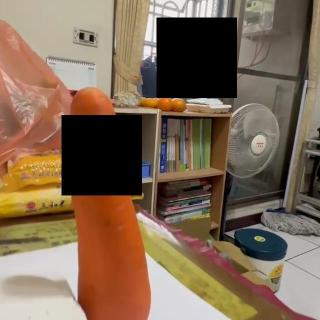carrot: (65, 86, 153, 320)
